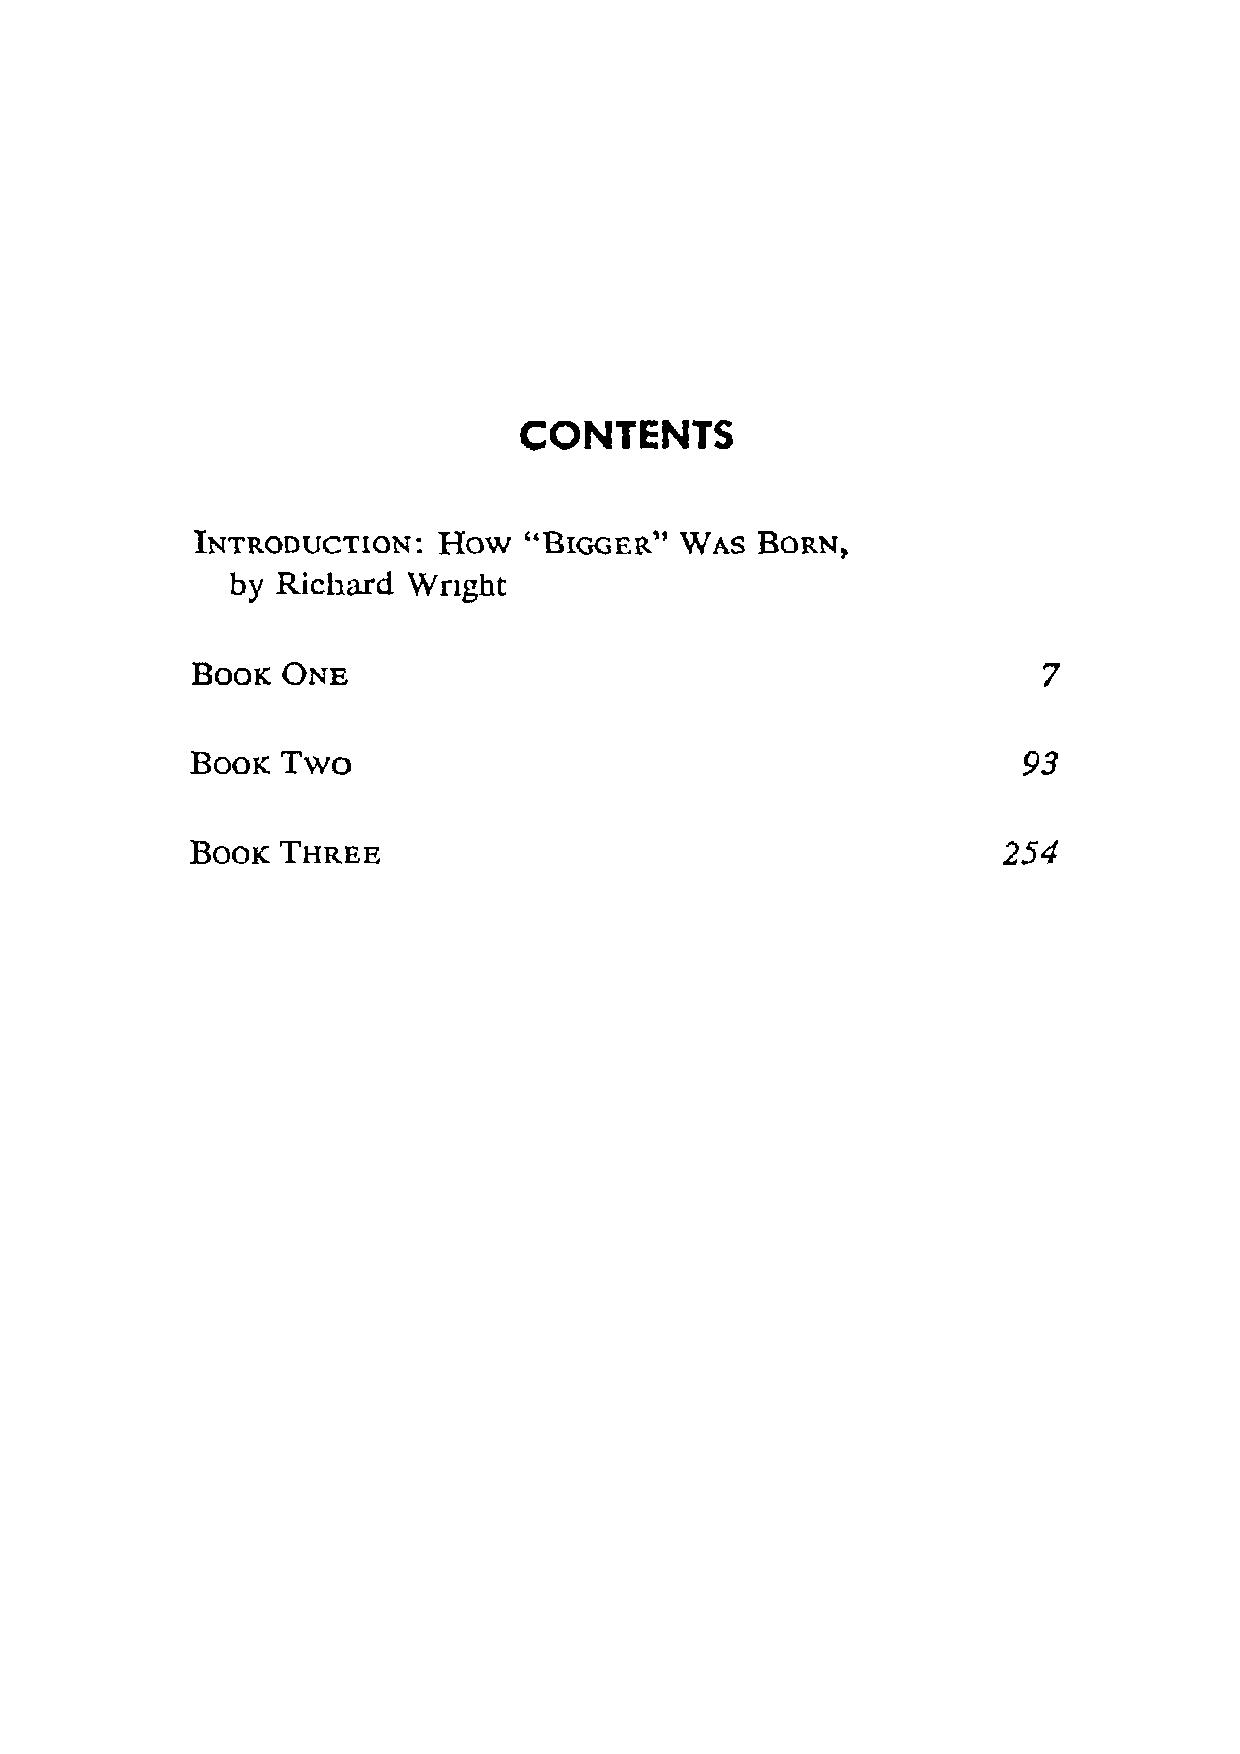TOC_chapter: (193, 525, 854, 604), (188, 833, 384, 871), (189, 654, 352, 695), (185, 743, 348, 776)
TOC_pagenumber: (1033, 654, 1074, 697), (1004, 836, 1059, 867), (1017, 747, 1063, 774)
chapter: (509, 413, 733, 455)
